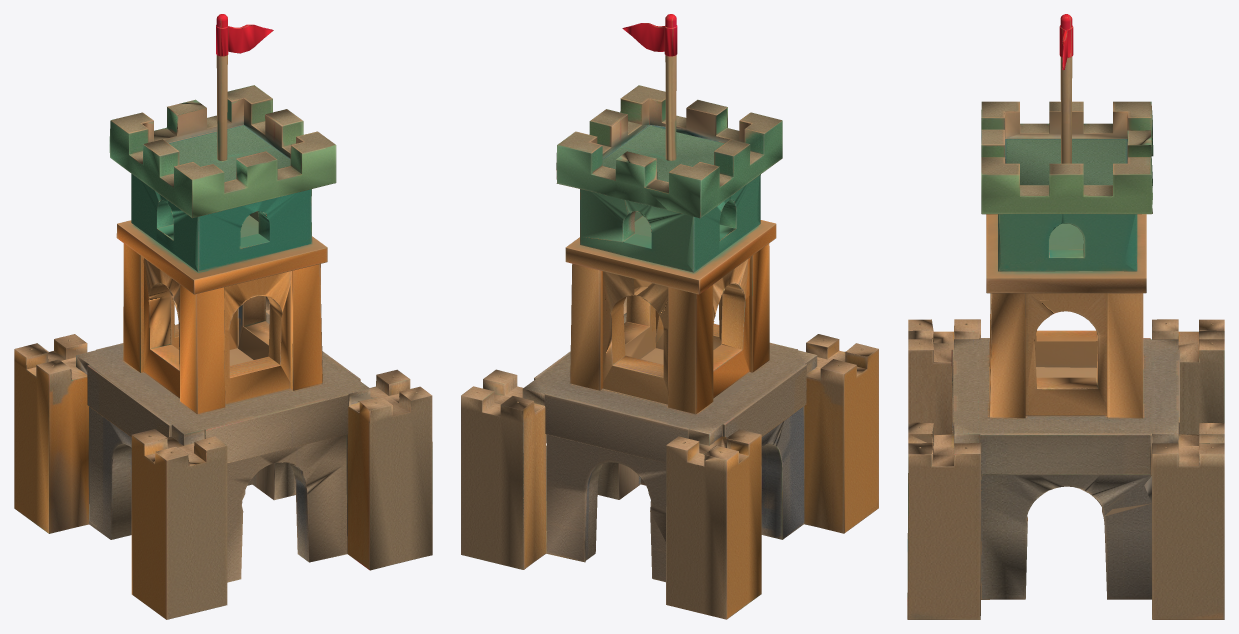
File: blocks.glb
3 renders of one model, left to right at view 1: azimuth 30°, elevation 25°; view 2: azimuth 150°, elevation 25°; view 3: azimuth 270°, elevation 25°, orthographic. The views are drawn at different scales.
Size of the model in its own units: 0.5112 by 0.9507 by 0.5088.
1 material, 1 textured.
